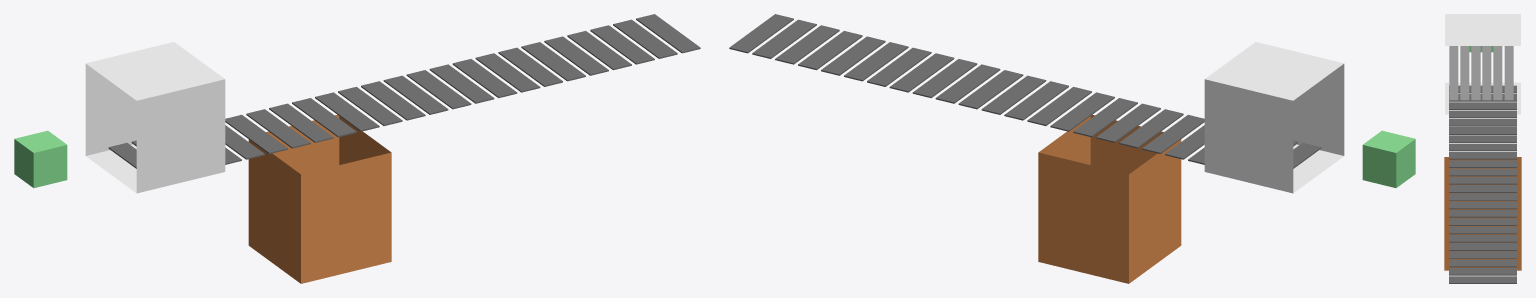
Rendered from belt.glb.
3 renders of one model, left to right at view 1: azimuth 30°, elevation 25°; view 2: azimuth 150°, elevation 25°; view 3: azimuth 270°, elevation 25°, orthographic. The views are drawn at different scales.
Parts seen in each view (by area): view 1: Cube, Cube.001, Cube.002, Cube.009; view 2: Cube, Cube.001, Cube.002, Cube.009; view 3: Cube, Cube.002, Cube.001, Cube.006, Cube.003, Cube.004, Cube.005, Cube.007, Cube.008.
Part boxes in pixels (left/top/right/bottom): Cube: left=108, top=14, right=700, bottom=168; Cube.001: left=248, top=114, right=391, bottom=283; Cube.002: left=85, top=42, right=225, bottom=193; Cube.009: left=14, top=130, right=67, bottom=187; Cube: left=729, top=14, right=1321, bottom=168; Cube.001: left=1038, top=114, right=1181, bottom=283; Cube.002: left=1204, top=42, right=1344, bottom=193; Cube.009: left=1362, top=130, right=1415, bottom=187; Cube: left=1449, top=85, right=1516, bottom=283; Cube.002: left=1445, top=14, right=1520, bottom=114; Cube.001: left=1444, top=157, right=1521, bottom=270; Cube.006: left=1471, top=46, right=1480, bottom=100; Cube.003: left=1504, top=46, right=1513, bottom=100; Cube.004: left=1493, top=46, right=1502, bottom=100; Cube.005: left=1482, top=46, right=1491, bottom=100; Cube.007: left=1460, top=46, right=1469, bottom=100; Cube.008: left=1449, top=46, right=1458, bottom=100.
Size of the model in its own units: 7.67 by 2.5 by 1.06.
